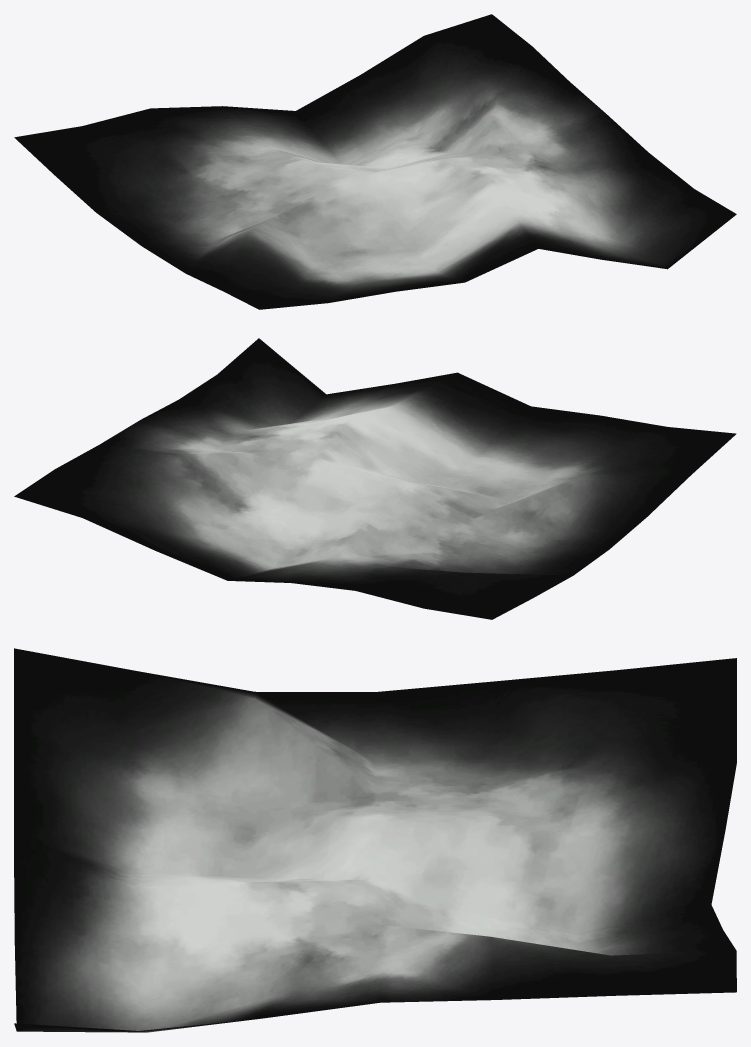
Rendered from yanwu.FBX.
The picture shows the model from 3 angles, top to bottom: view 1: azimuth 30°, elevation 25°; view 2: azimuth 150°, elevation 25°; view 3: azimuth 270°, elevation 25°; orthographic projection. The views are drawn at different scales.
Parts seen in each view (by area): view 1: Plane001; view 2: Plane001; view 3: Plane001.
Part boxes in pixels (left/top/right/bottom): Plane001: left=14, top=14, right=736, bottom=309; Plane001: left=14, top=338, right=736, bottom=619; Plane001: left=14, top=648, right=736, bottom=1032.
Size of the model in its own units: 43.66 by 5.44 by 38.75.
